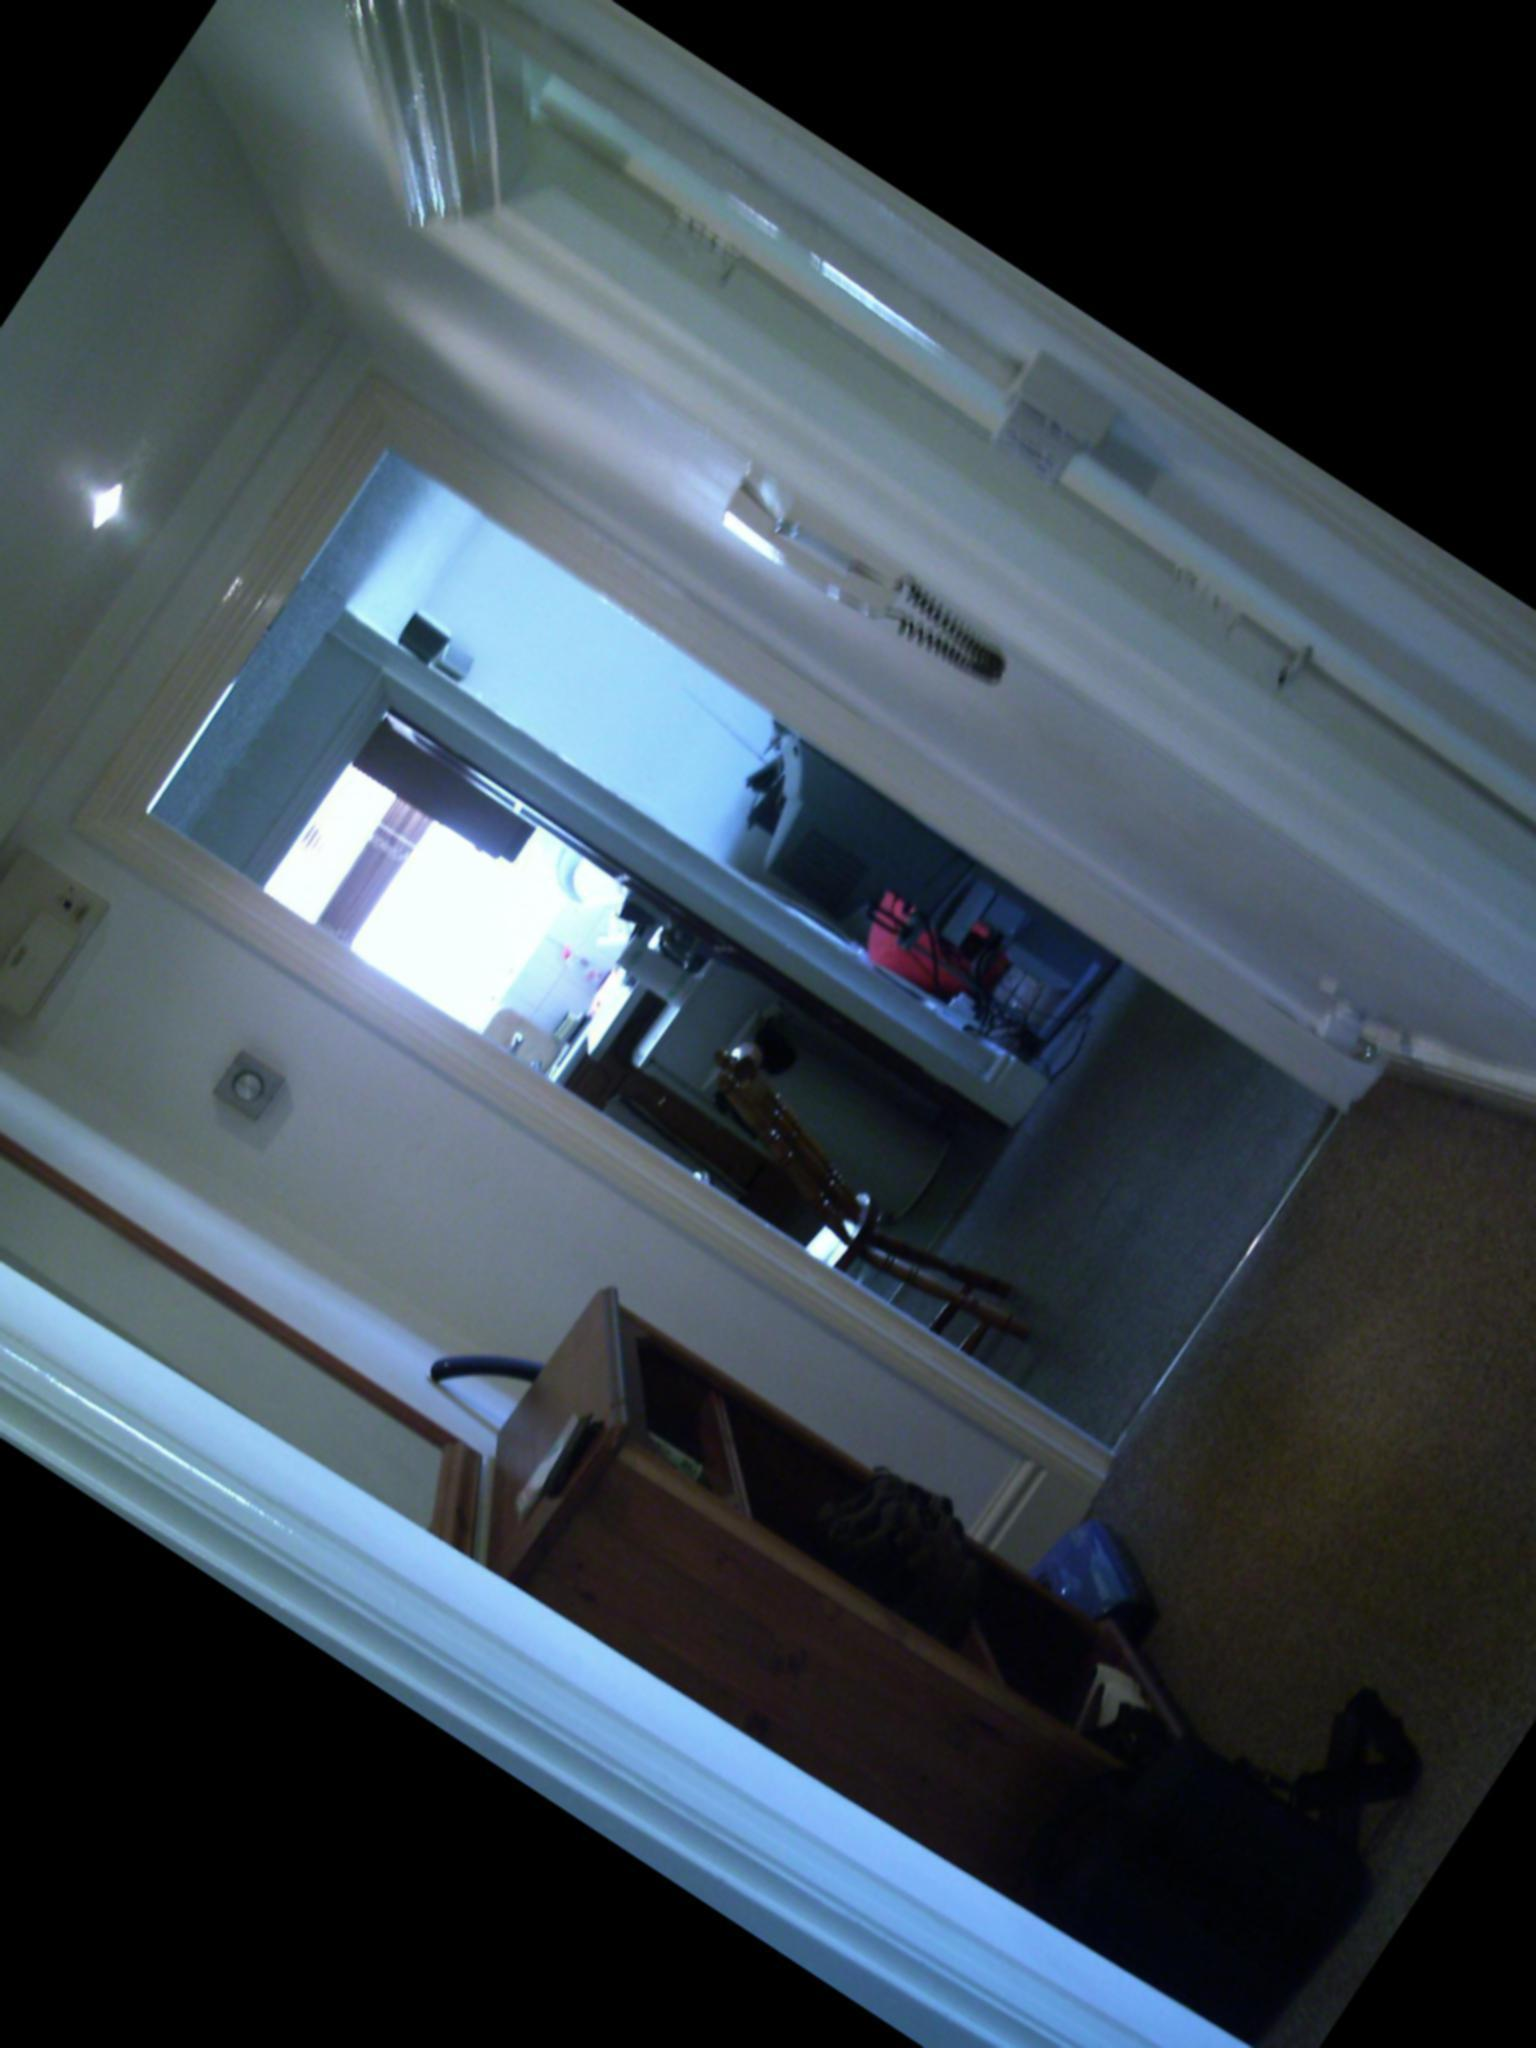Armario: (446, 1282, 1207, 1919)
Otro Obstaculo: (1036, 1589, 1475, 2042)
Puerta: (349, 18, 1536, 1174)
